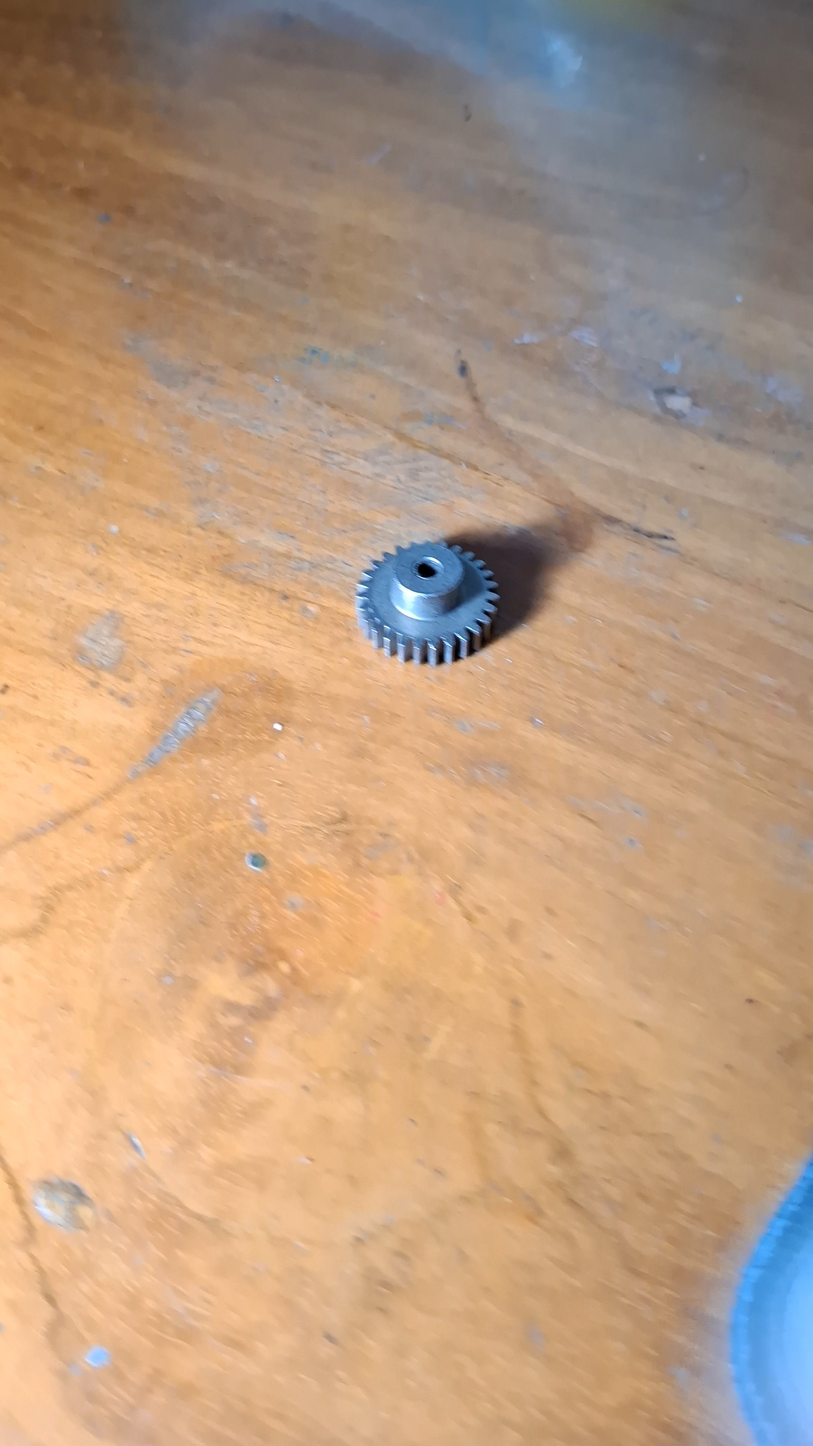spur gear: (356, 542, 498, 665)
